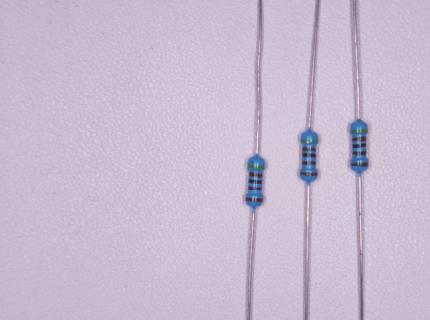Black band: (249, 179, 263, 184), (353, 143, 366, 148), (302, 153, 316, 157)
Brown band: (246, 197, 263, 202), (249, 172, 263, 178), (351, 137, 366, 142), (300, 172, 318, 176), (351, 162, 369, 166), (353, 151, 366, 156), (248, 186, 262, 190), (302, 161, 316, 165), (303, 147, 316, 151)
Green band: (350, 128, 368, 134), (248, 165, 265, 169), (301, 139, 318, 143)
